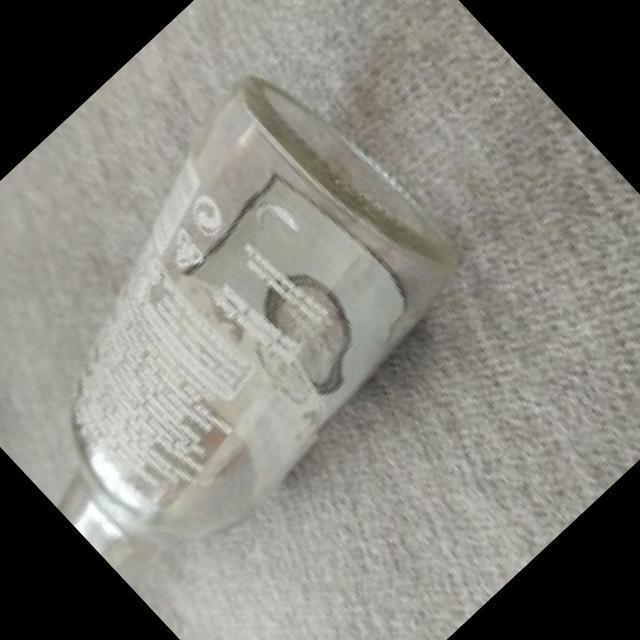Glass: (59, 76, 457, 586)
